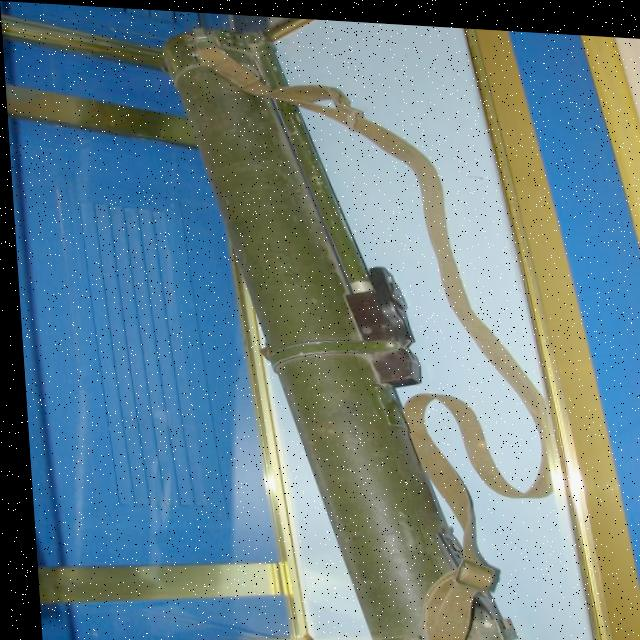rocket: (155, 7, 520, 640)
